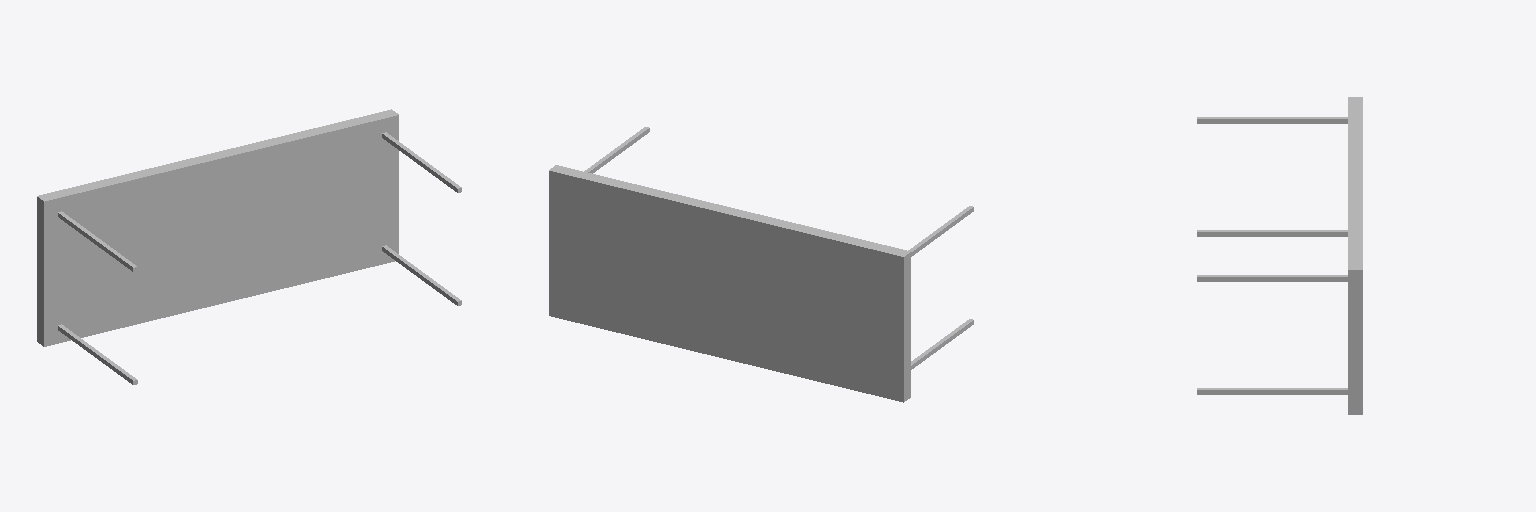
The model's file is random_table66.obj.
3 renders of one model, left to right at view 1: azimuth 30°, elevation 25°; view 2: azimuth 150°, elevation 25°; view 3: azimuth 270°, elevation 25°, orthographic.
Visible parts, largest first — view 1: Table_Cube.1395, TableLeg0_Cube.1396, TableLeg2_Cube.1398, TableLeg3_Cube.1399, TableLeg1_Cube.1397; view 2: Table_Cube.1395, TableLeg1_Cube.1397, TableLeg3_Cube.1399, TableLeg0_Cube.1396; view 3: Table_Cube.1395, TableLeg0_Cube.1396, TableLeg1_Cube.1397, TableLeg2_Cube.1398, TableLeg3_Cube.1399.
Part boxes in pixels (bbox=[...]): Table_Cube.1395: bbox=[37, 109, 398, 346]; TableLeg0_Cube.1396: bbox=[382, 132, 461, 192]; TableLeg2_Cube.1398: bbox=[382, 245, 461, 305]; TableLeg3_Cube.1399: bbox=[58, 324, 137, 384]; TableLeg1_Cube.1397: bbox=[58, 211, 137, 271]; Table_Cube.1395: bbox=[549, 165, 910, 402]; TableLeg1_Cube.1397: bbox=[908, 206, 973, 256]; TableLeg3_Cube.1399: bbox=[911, 319, 973, 369]; TableLeg0_Cube.1396: bbox=[584, 127, 649, 173]; Table_Cube.1395: bbox=[1348, 97, 1362, 414]; TableLeg0_Cube.1396: bbox=[1197, 275, 1347, 281]; TableLeg1_Cube.1397: bbox=[1197, 117, 1347, 123]; TableLeg2_Cube.1398: bbox=[1197, 388, 1347, 394]; TableLeg3_Cube.1399: bbox=[1197, 230, 1347, 236].
Bounding box in the file's own units: 12.11 × 4.74 × 4.93.